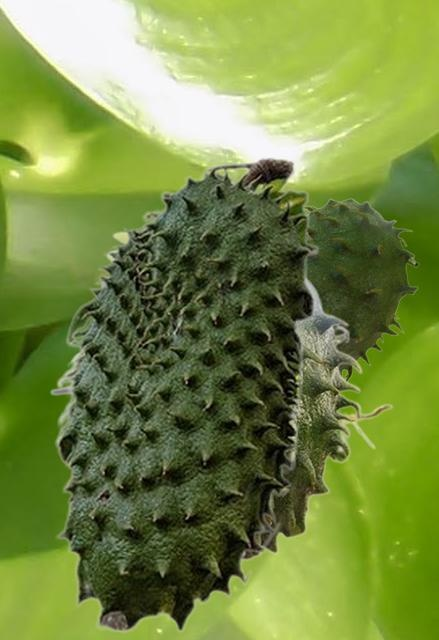guyabano: (53, 155, 318, 633), (49, 230, 393, 561), (305, 198, 418, 380)
